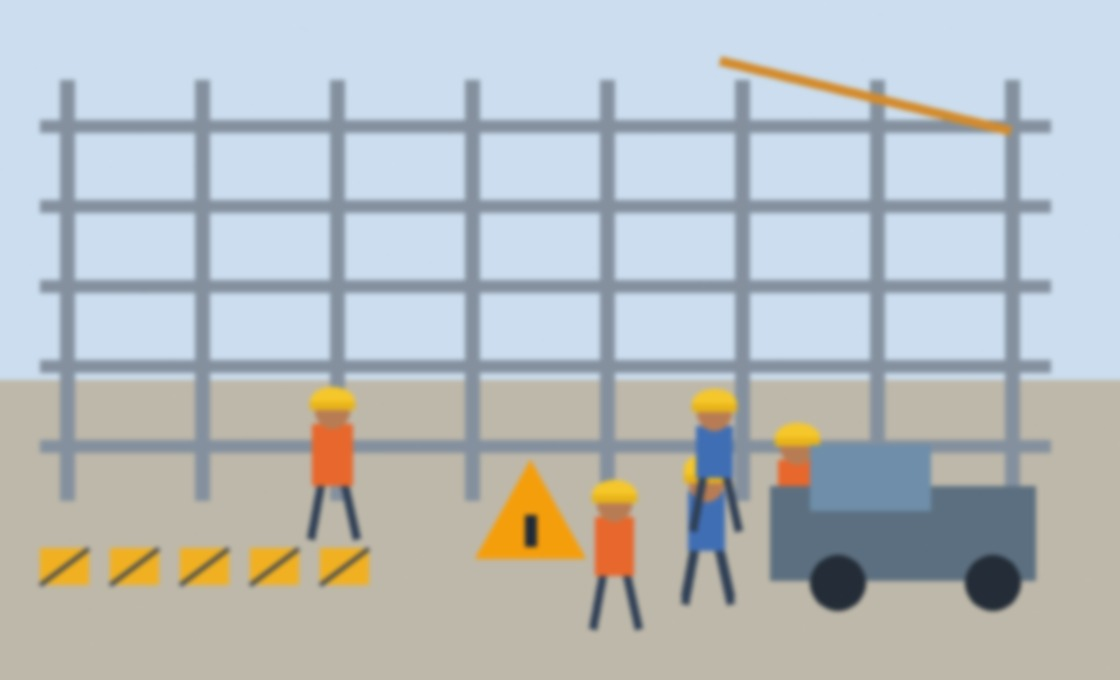helmet: (190, 350, 232, 384)
person: (175, 360, 237, 530)
vehicle: (770, 445, 1035, 595)
vest: (165, 395, 237, 483)
